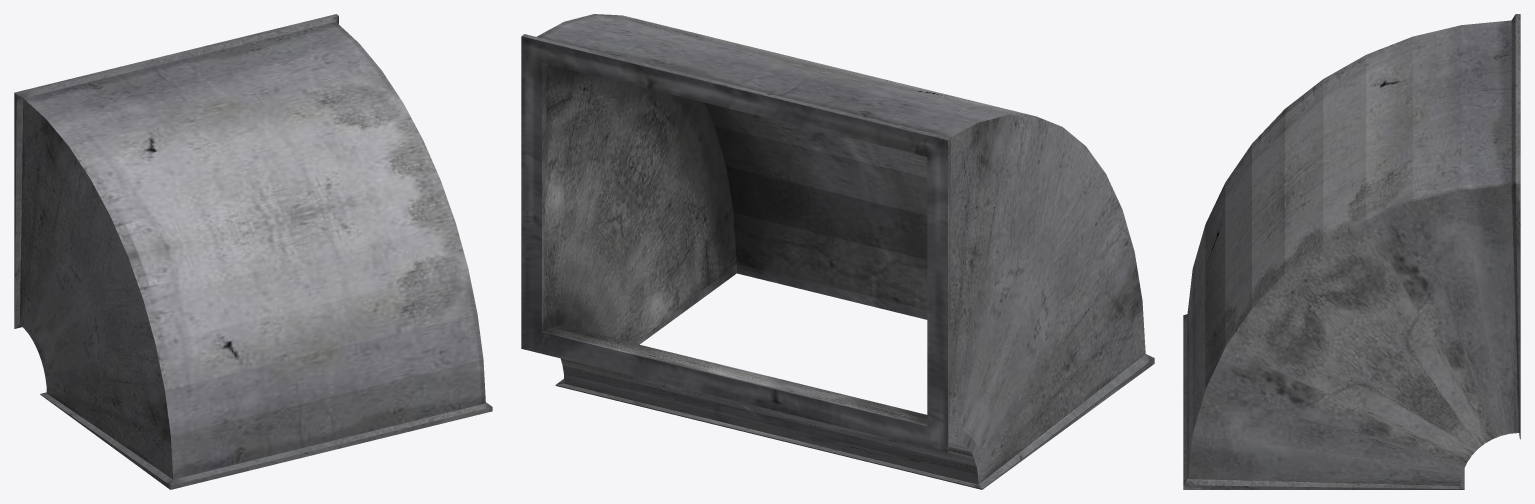
File: pipe2.fbx
3 renders of one model, left to right at view 1: azimuth 30°, elevation 25°; view 2: azimuth 150°, elevation 25°; view 3: azimuth 270°, elevation 25°, orthographic. The views are drawn at different scales.
Parts seen in each view (by area): view 1: Cube.002; view 2: Cube.002; view 3: Cube.002.
Boxes of the visible parts, <box> form: Cube.002: <box>14,14,492,489</box>; Cube.002: <box>521,14,1154,489</box>; Cube.002: <box>1183,14,1520,489</box>.
Bounding box in the file's own units: 206 × 173 × 173.
